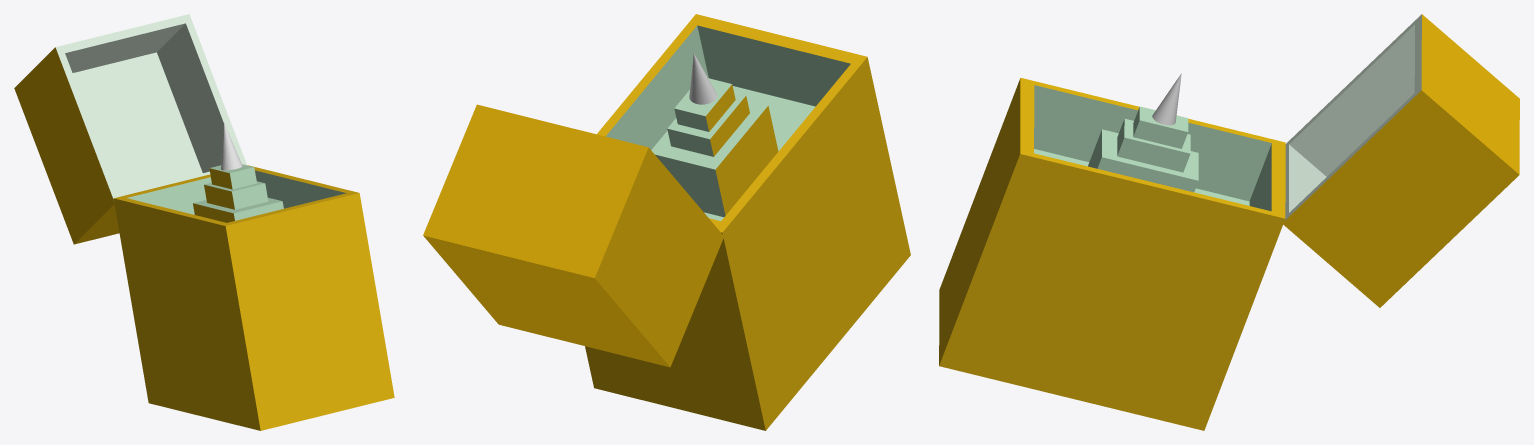
The model's file is lighter 1.4 1.fbx.
3 renders of one model, left to right at view 1: azimuth 30°, elevation 25°; view 2: azimuth 150°, elevation 25°; view 3: azimuth 270°, elevation 25°, orthographic. The views are drawn at different scales.
Visible parts, largest first — view 1: Cube.001; view 2: Cube.001; view 3: Cube.001.
Part boxes in pixels (box(x1,y1,x2,y2)): Cube.001: box(14, 14, 394, 430); Cube.001: box(423, 14, 910, 430); Cube.001: box(939, 14, 1519, 430).
Bounding box in the file's own units: 44.69 × 91.47 × 141.
